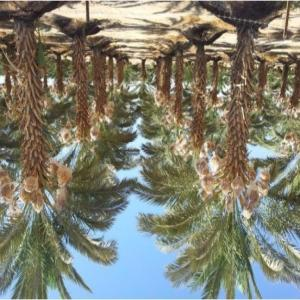palm tree: (135, 0, 299, 299), (0, 0, 141, 299)
